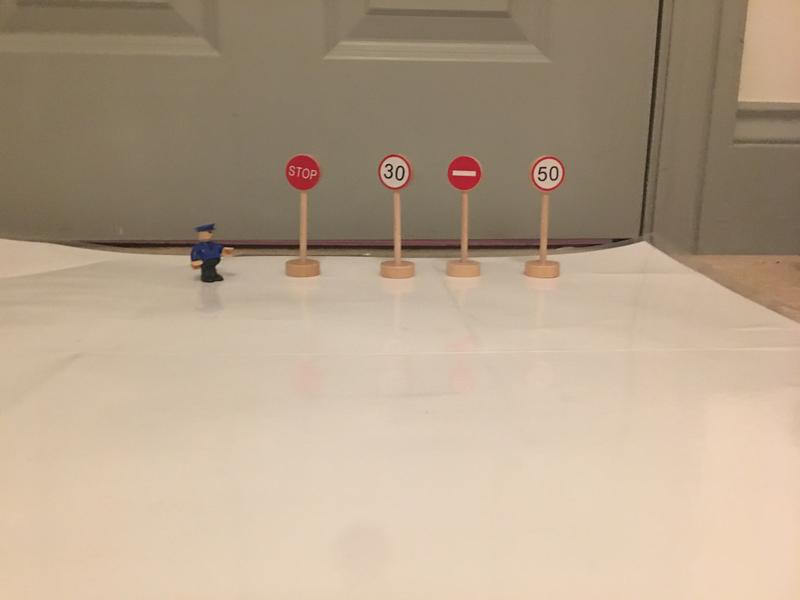Traffic_Sign_30: (378, 155, 411, 189)
Traffic_Sign_50: (530, 156, 566, 192)
Traffic_Sign_No_Entry: (449, 156, 480, 190)
Traffic_Sign_Stop: (285, 155, 322, 191)
person: (188, 224, 233, 285)
